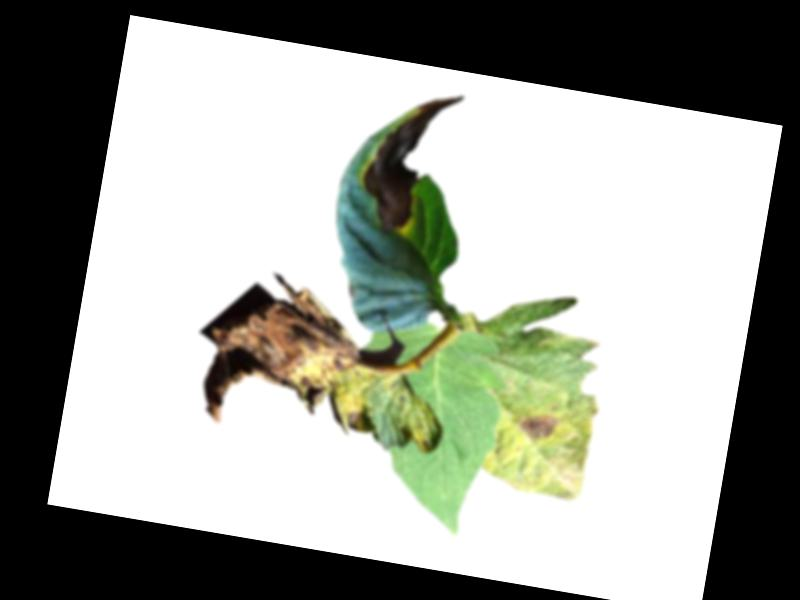Early_blight: (195, 272, 398, 452), (350, 81, 466, 243), (515, 411, 559, 442)
